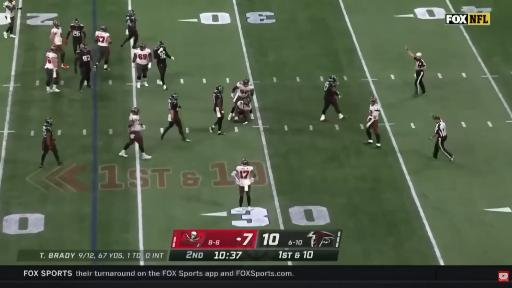Helmet: (369, 97, 377, 105), (80, 42, 87, 51), (329, 75, 337, 82), (100, 25, 107, 33), (51, 45, 58, 53), (241, 159, 248, 166), (131, 107, 138, 114), (243, 78, 250, 85), (157, 42, 164, 49), (128, 10, 136, 16), (45, 119, 52, 125), (171, 94, 178, 100), (54, 21, 61, 27), (244, 100, 250, 106), (216, 86, 223, 91), (140, 43, 145, 50), (74, 19, 79, 25)
Jersey: (236, 166, 253, 186), (153, 47, 170, 63), (237, 82, 254, 97), (135, 49, 151, 64), (77, 50, 91, 67), (168, 100, 179, 121), (324, 82, 338, 98), (45, 51, 57, 69), (95, 31, 109, 46), (213, 90, 223, 110), (368, 103, 379, 121), (4, 2, 15, 20), (70, 24, 83, 39), (130, 114, 141, 131), (52, 27, 62, 45), (126, 14, 136, 29), (43, 124, 52, 139), (237, 101, 251, 110)
Player: (119, 107, 151, 159), (161, 93, 190, 142), (232, 159, 255, 211), (228, 78, 254, 120), (40, 118, 62, 167), (153, 41, 174, 90), (321, 75, 343, 120), (132, 43, 151, 88), (50, 21, 68, 68), (75, 44, 91, 91), (210, 86, 225, 135), (95, 26, 111, 70), (366, 97, 380, 147), (66, 19, 86, 54), (4, 0, 22, 38), (121, 10, 138, 49), (45, 46, 59, 92), (234, 98, 251, 124)
